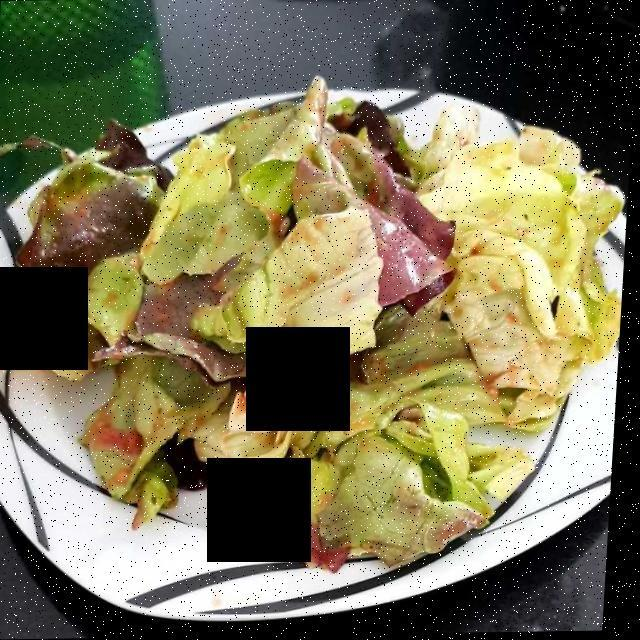salad: (8, 94, 605, 556), (41, 198, 379, 570)
